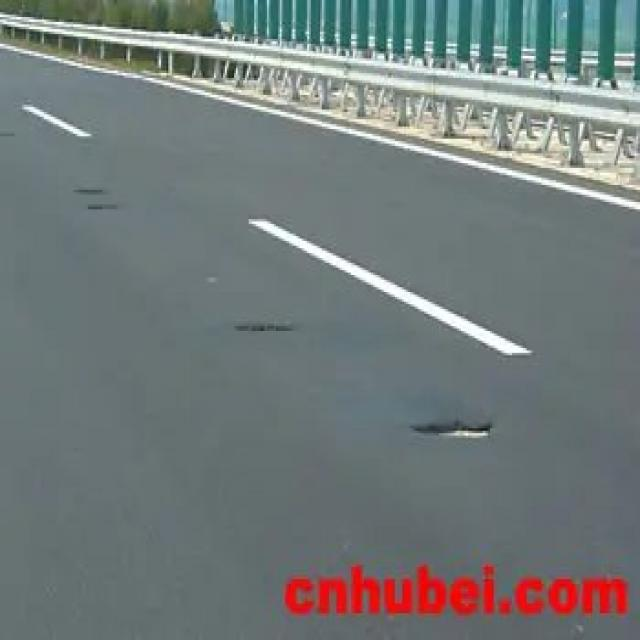Pothole: (410, 418, 498, 441), (232, 322, 293, 334), (73, 185, 101, 195), (86, 199, 117, 207)
